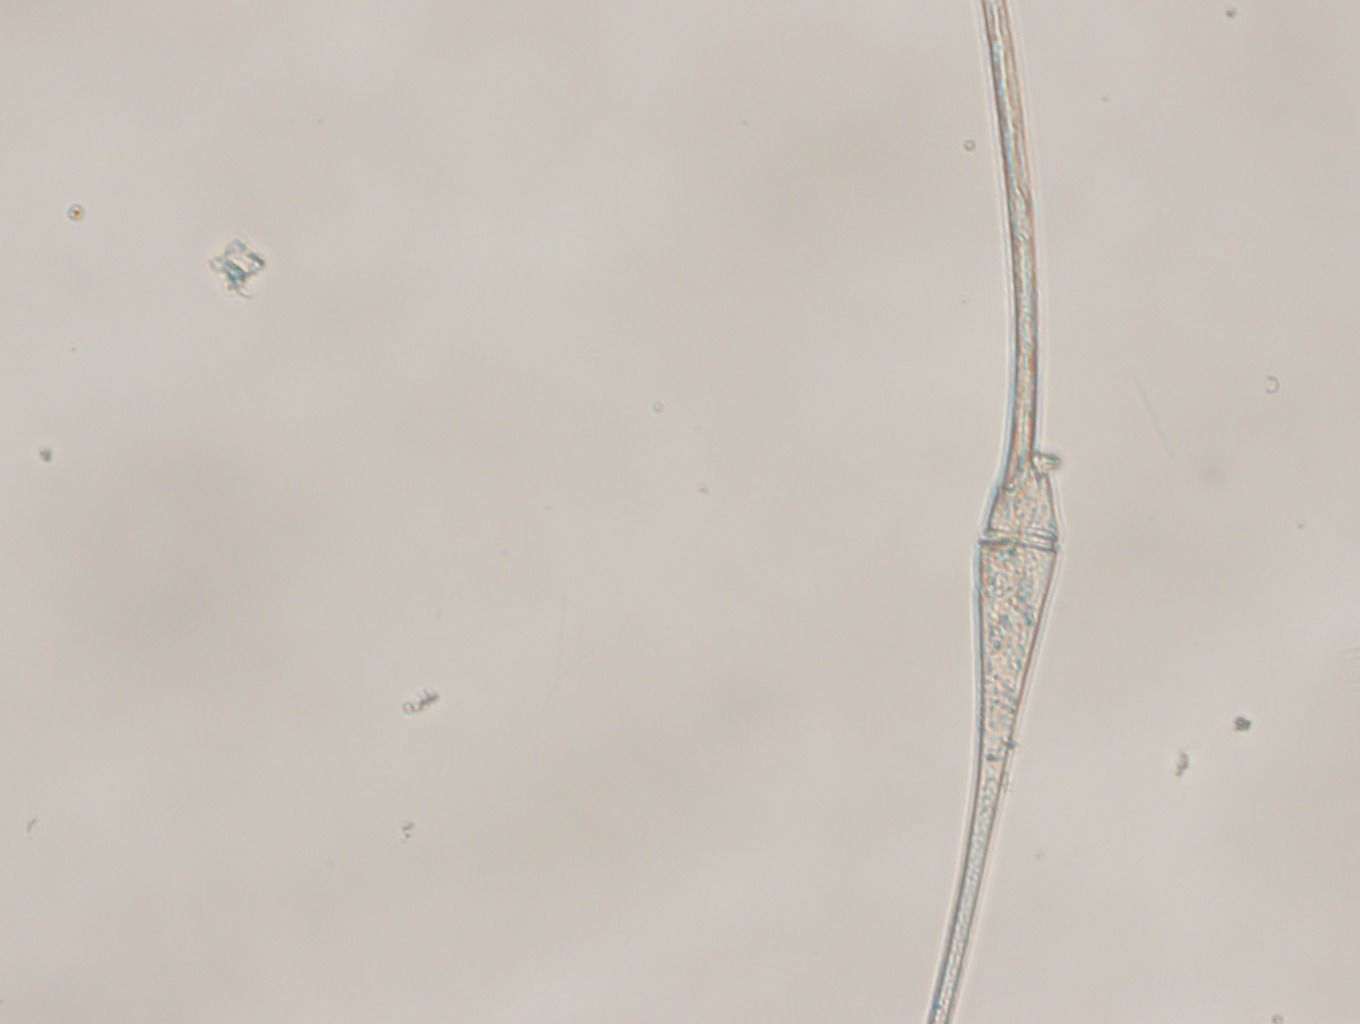ceratium fusus: (924, 1, 1071, 1020)
